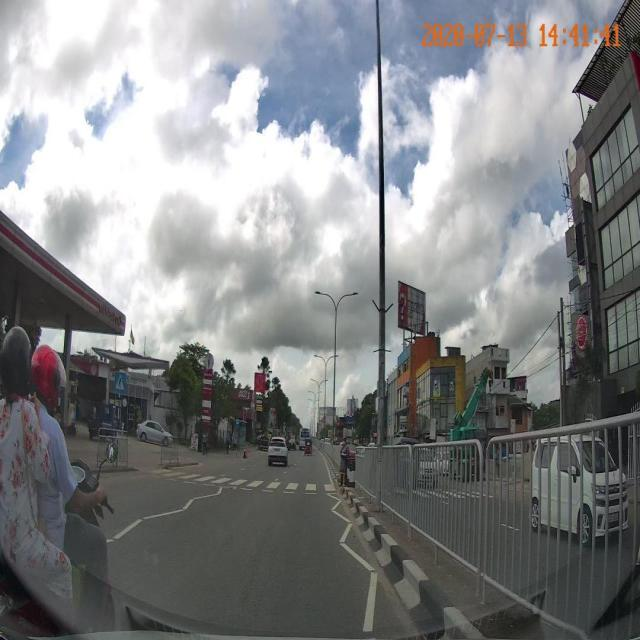Liniya 1: (340, 543, 377, 572), (362, 572, 377, 633), (113, 518, 143, 540), (141, 509, 184, 521), (331, 510, 353, 523), (339, 522, 352, 543), (325, 463, 334, 484), (193, 494, 221, 500), (183, 497, 195, 510), (325, 494, 342, 501), (331, 501, 342, 510), (217, 486, 223, 494)
Perehod: (146, 468, 337, 491)
